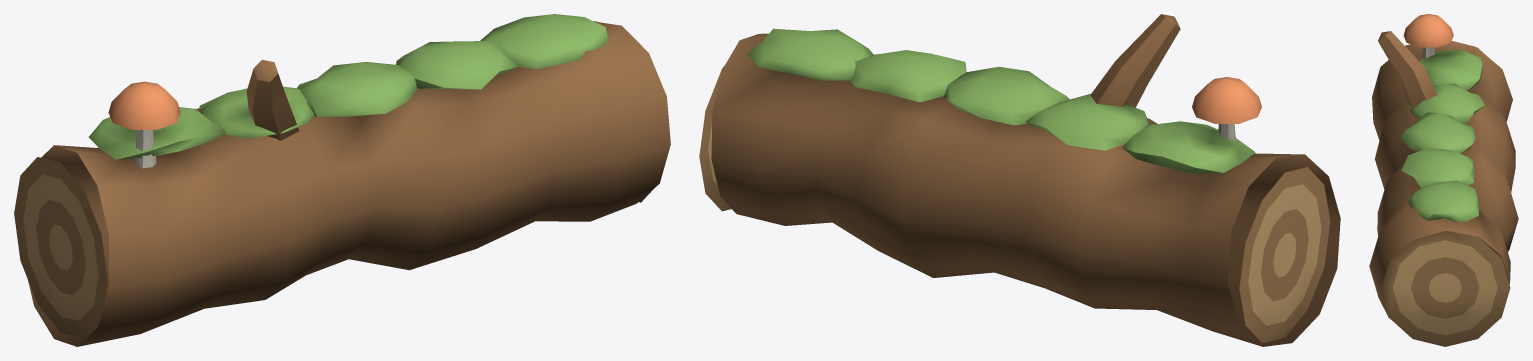
Rendered from EDV2_Log.fbx.
The picture shows the model from 3 angles, left to right: view 1: azimuth 30°, elevation 25°; view 2: azimuth 150°, elevation 25°; view 3: azimuth 270°, elevation 25°; orthographic projection. The views are drawn at different scales.
Visible parts, largest first — view 1: Bark, Moss.001, Endgrain; view 2: Bark, Moss.001, Endgrain; view 3: Bark, Moss.001, Endgrain.
Boxes of the visible parts, box(x1,y1,x2,y2) form: Bark: box(28, 21, 670, 346); Moss.001: box(88, 14, 608, 168); Endgrain: box(14, 21, 654, 338); Bark: box(711, 14, 1340, 346); Moss.001: box(747, 28, 1261, 173); Endgrain: box(699, 64, 1330, 343); Bark: box(1369, 31, 1518, 319); Moss.001: box(1400, 14, 1484, 221); Endgrain: box(1380, 48, 1510, 346).
Bounding box in the file's own units: 0.8357 × 0.3808 × 0.2703.
